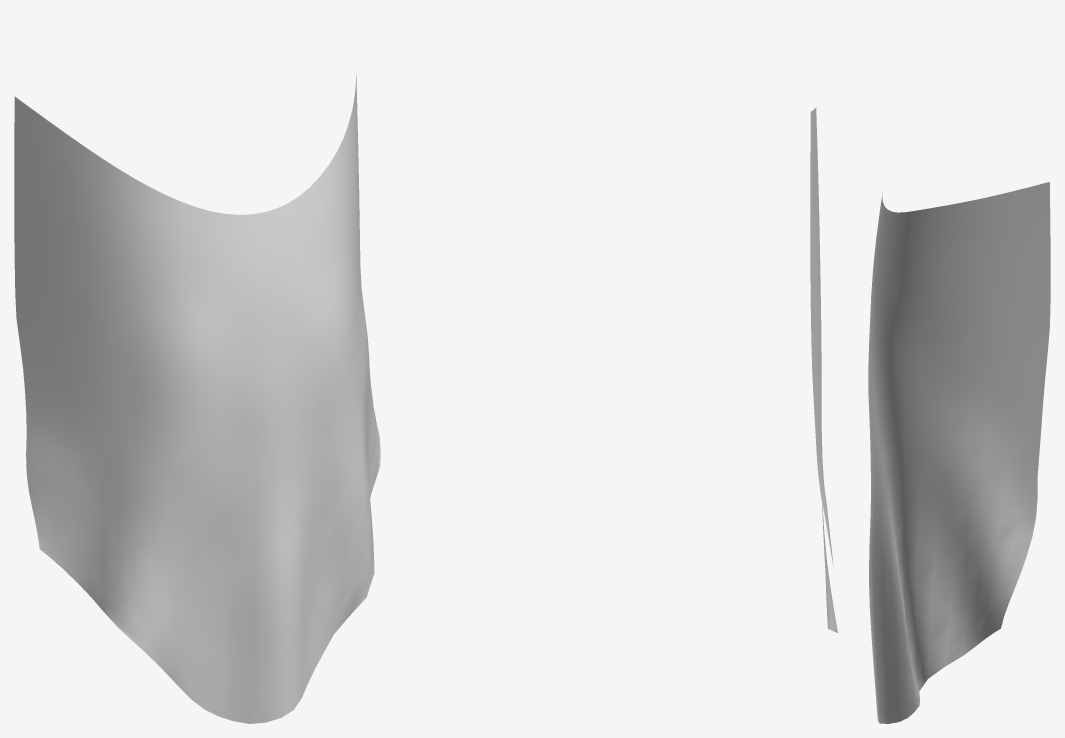
File: MianSha.gltf
3 renders of one model, left to right at view 1: azimuth 30°, elevation 25°; view 2: azimuth 150°, elevation 25°; view 3: azimuth 270°, elevation 25°, orthographic. The views are drawn at different scales.
Visible parts, largest first — view 1: MianSha; view 2: MianSha; view 3: MianSha.
Boxes of the visible parts, box(x1,y1,x2,y2) form: MianSha: box(14, 75, 380, 723); MianSha: box(810, 107, 837, 632); MianSha: box(868, 182, 1050, 723).
Bounding box in the file's own units: 21.56 × 36.15 × 9.64.
1 material, 1 textured.
